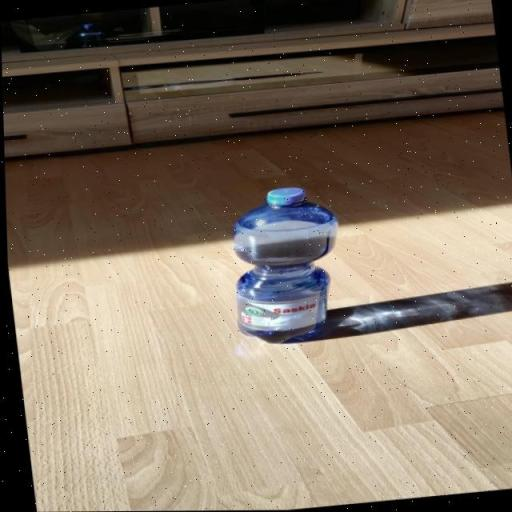plastic: (220, 182, 350, 348)
